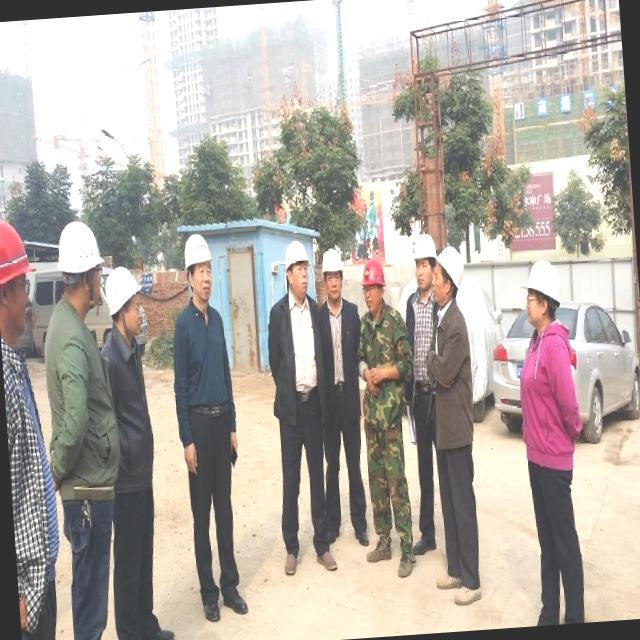goggles: (525, 290, 539, 308)
helmet: (52, 215, 105, 275), (0, 215, 36, 283), (101, 262, 146, 314), (520, 250, 564, 302), (436, 240, 468, 290), (177, 230, 214, 268), (409, 225, 439, 263), (358, 252, 386, 290), (280, 235, 310, 268), (319, 242, 344, 274)
no-goggles: (187, 262, 214, 280), (128, 298, 150, 316), (321, 269, 343, 285), (290, 258, 307, 278), (414, 260, 434, 270), (430, 270, 442, 282)
no-vest: (0, 305, 62, 597), (42, 297, 118, 511), (514, 320, 586, 488), (167, 302, 238, 431), (421, 301, 476, 454), (109, 323, 158, 483), (270, 294, 328, 416), (359, 306, 411, 419), (316, 298, 362, 407), (406, 287, 436, 396)
